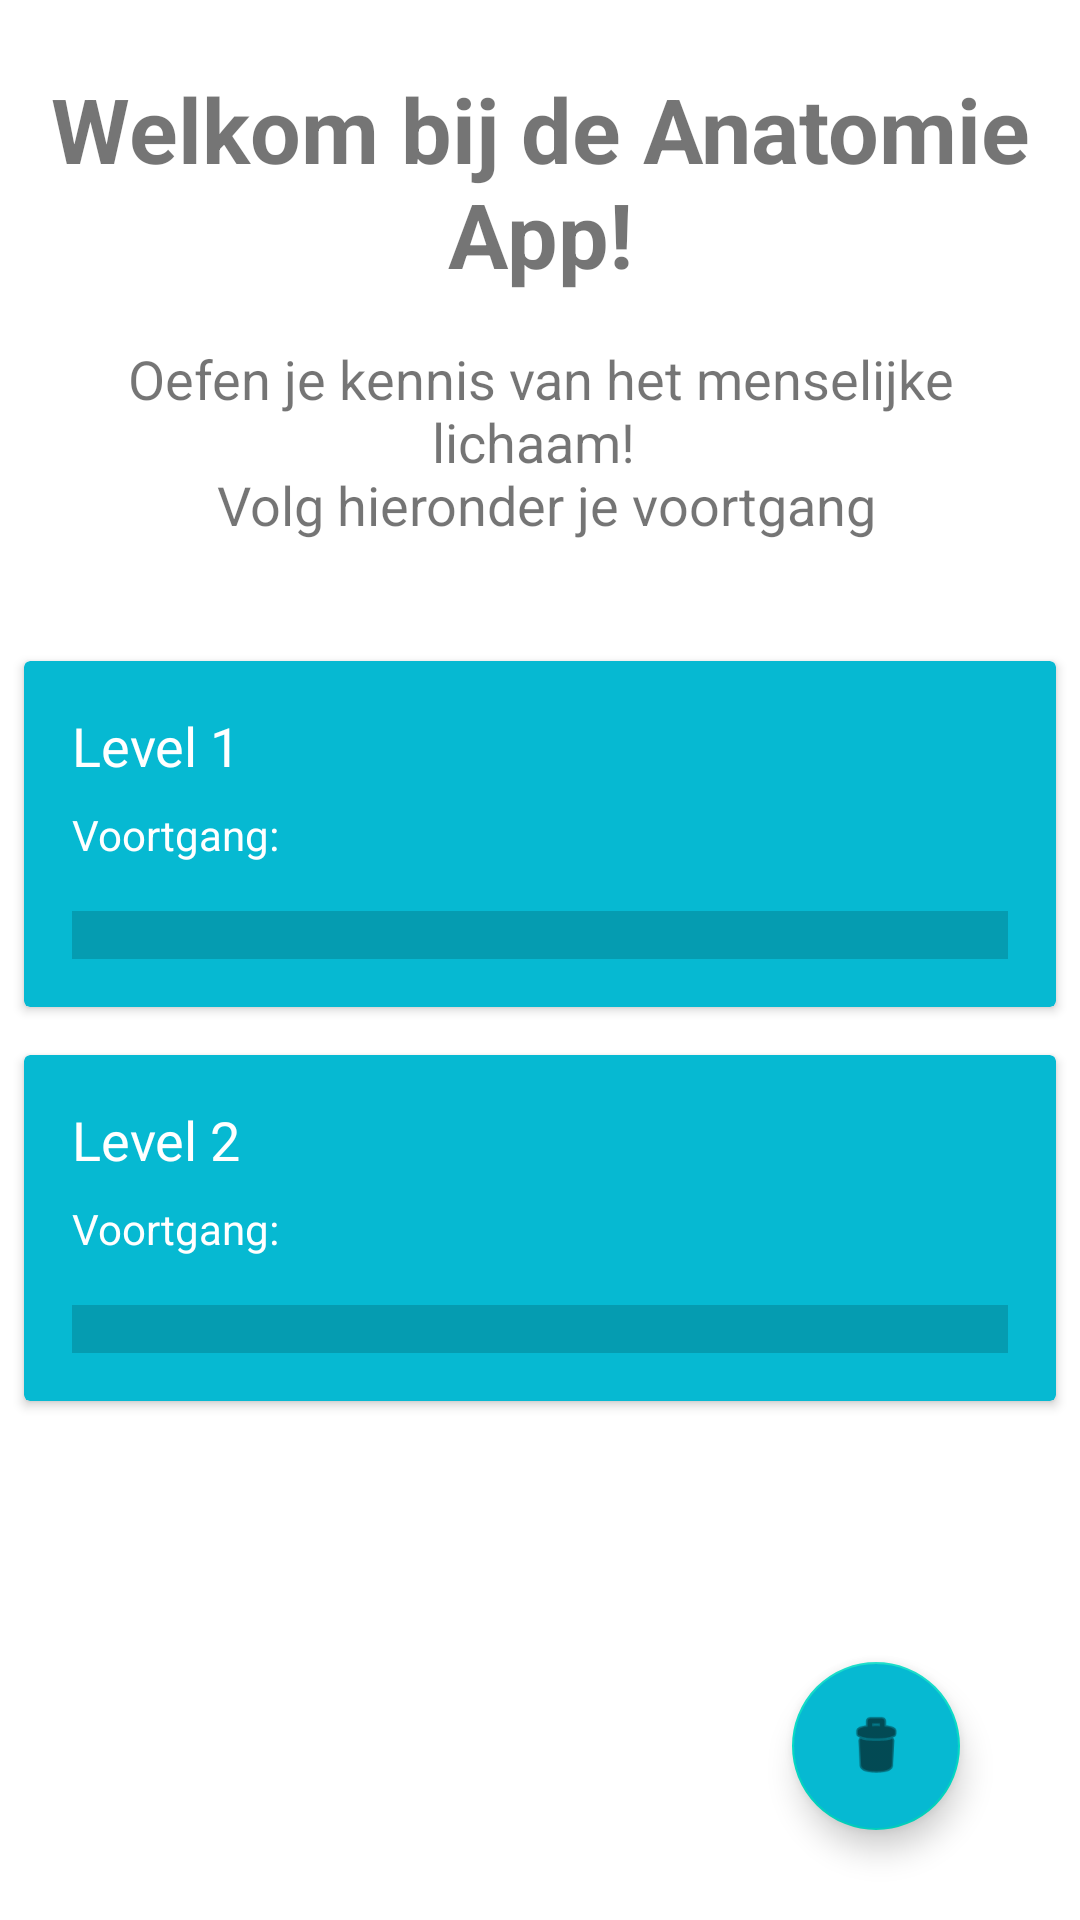

Icon click points for this 1080 x 1920 phone screenshot, format point (x, y):
delete: point (876, 1746)
